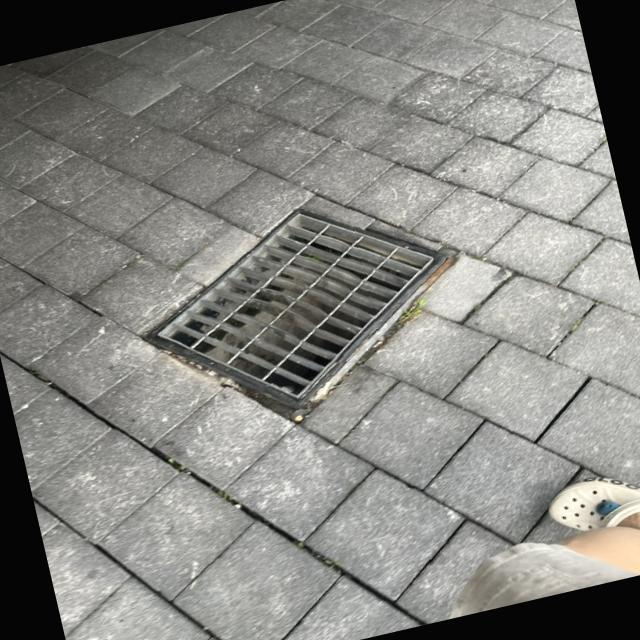drain_area: (154, 212, 431, 399)
drain_full: (155, 213, 432, 399)
